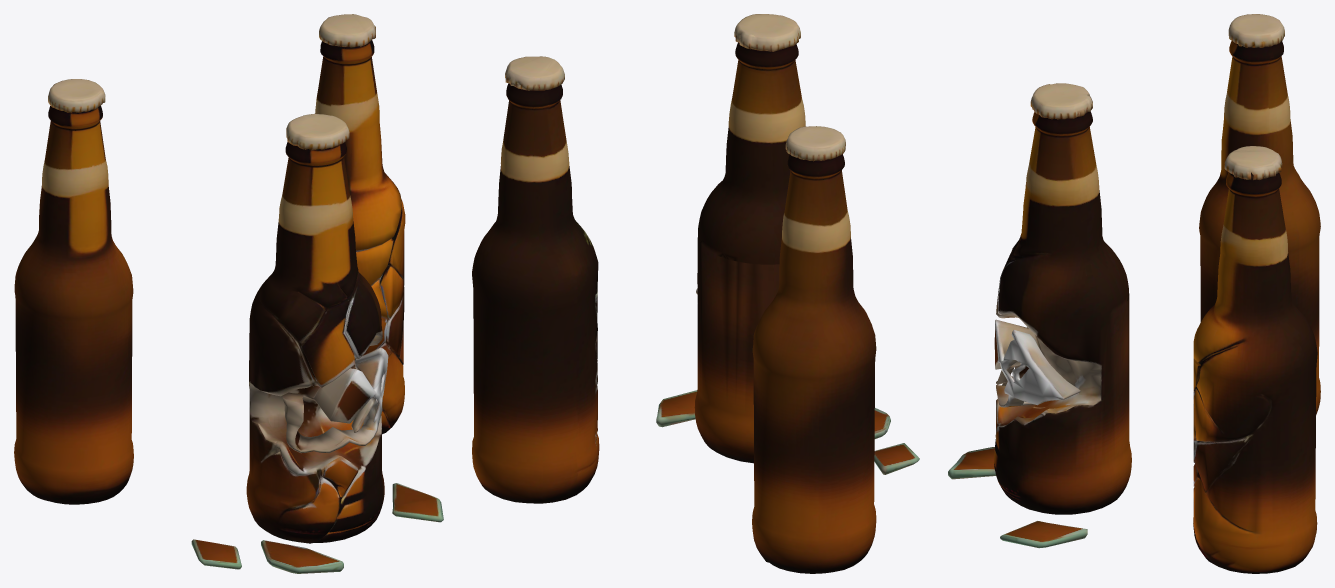
File: broken_beer_bottles_d16e9f56_v1.glb
3 renders of one model, left to right at view 1: azimuth 30°, elevation 25°; view 2: azimuth 150°, elevation 25°; view 3: azimuth 270°, elevation 25°, orthographic. The views are drawn at different scales.
Parts seen in each view (by area): view 1: material; view 2: material; view 3: material.
Part boxes in pixels (box(x1,y1,x2,y2)): material: box(14, 14, 443, 573); material: box(472, 14, 919, 573); material: box(948, 14, 1320, 573).
Bounding box in the file's own units: 1.86 × 1.9 × 1.6.
Materials: 1 (1 with a texture image).
